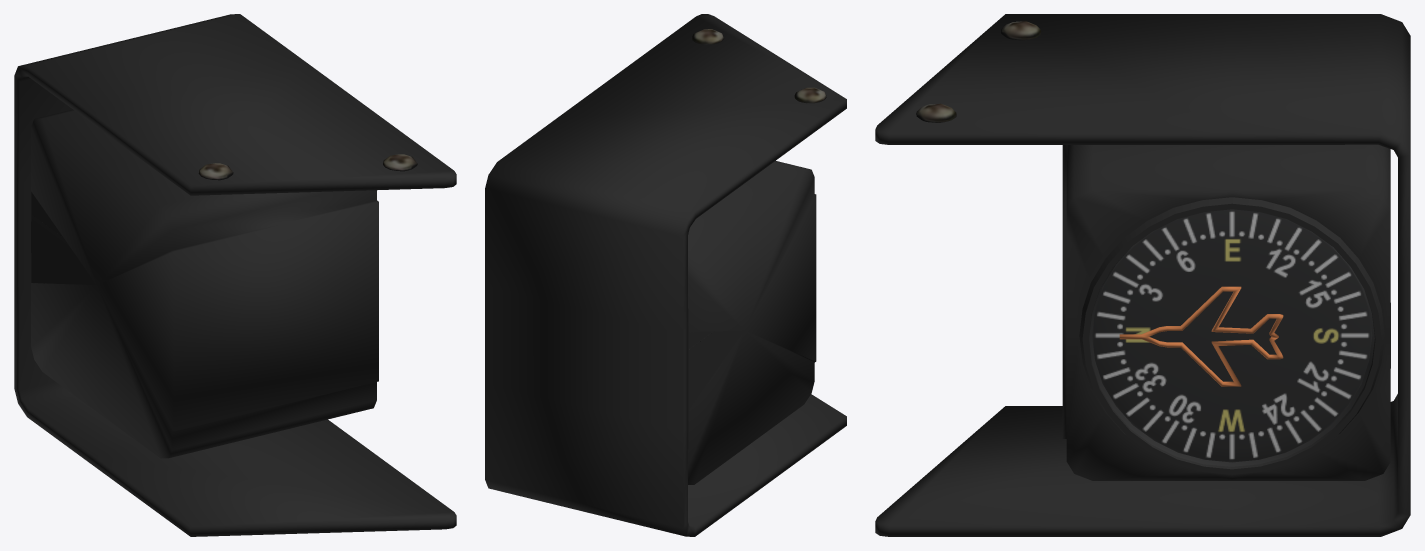
Rendered from compass.gltf.
3 views of the same model, side by side, from view 1: azimuth 30°, elevation 25°; view 2: azimuth 150°, elevation 25°; view 3: azimuth 270°, elevation 25° (orthographic). The views are drawn at different scales.
Parts seen in each view (by area): view 1: fond, mount; view 2: mount, fond; view 3: mount, fond, face, lubber.
Boxes of the visible parts, box(x1,y1,x2,y2) form: fond: box(31, 109, 378, 458); mount: box(14, 14, 456, 536); mount: box(485, 14, 846, 536); fond: box(688, 161, 816, 484); mount: box(875, 14, 1410, 536); fond: box(1062, 144, 1390, 480); face: box(1092, 209, 1372, 462); lubber: box(1119, 286, 1283, 386).
Bounding box in the file's own units: 0.0555 × 0.0821 × 0.0949.
2 materials, 1 textured.
